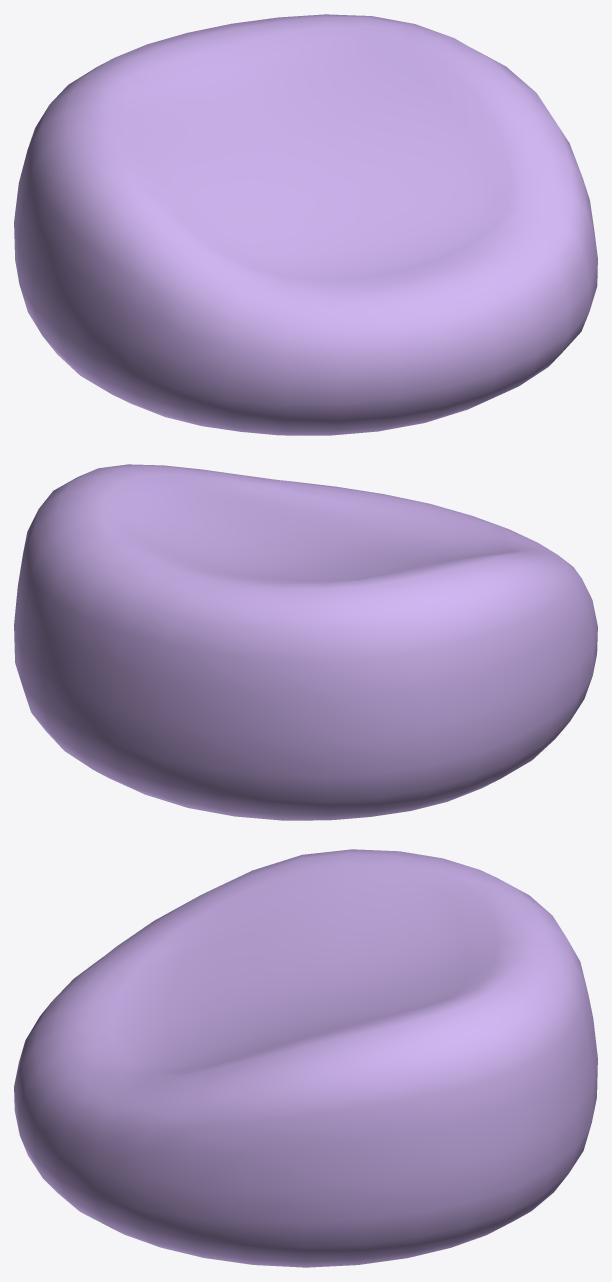
File: Baen_bag_1.glb
3 views of the same model, one above another, from view 1: azimuth 30°, elevation 25°; view 2: azimuth 150°, elevation 25°; view 3: azimuth 270°, elevation 25° (orthographic).
Visible parts, largest first — view 1: Baen_bag_1; view 2: Baen_bag_1; view 3: Baen_bag_1.
Part boxes in pixels (bbox=[...]): Baen_bag_1: bbox=[14, 14, 597, 435]; Baen_bag_1: bbox=[14, 464, 597, 820]; Baen_bag_1: bbox=[14, 849, 597, 1267].
Size of the model in its own units: 1.56 by 0.7832 by 1.56.
Materials: 1 (1 with a texture image).
